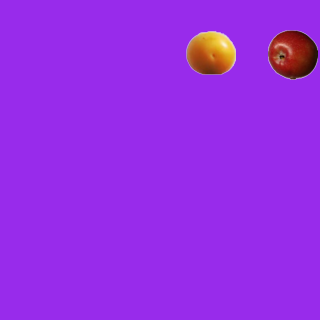Apple Braeburn: (267, 29, 317, 79)
Cherry Wax Yellow: (185, 27, 235, 77)
